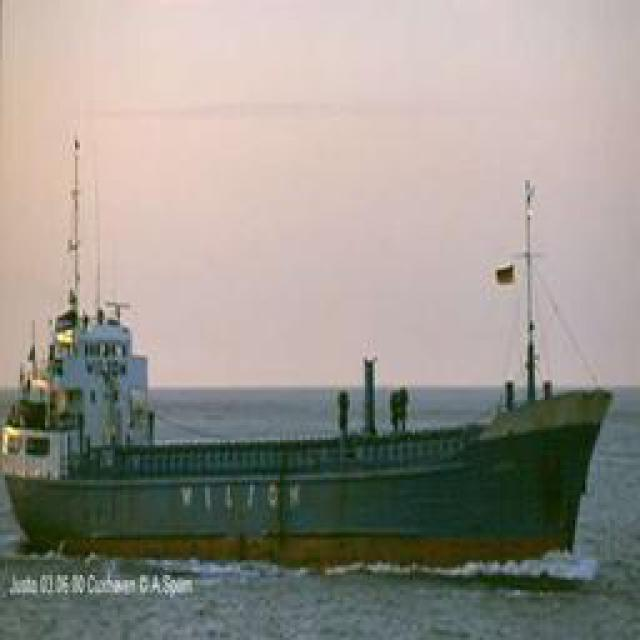Ship: (11, 398, 609, 563)
